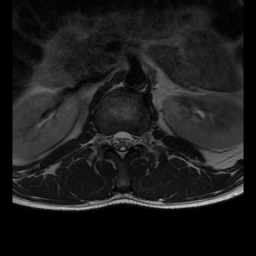CCS_normal: (117, 124, 125, 164)
LFS_normal: (133, 124, 142, 151)
LLS_normal: (125, 123, 133, 155)
RFS_normal: (101, 127, 109, 152)
RLS_normal: (109, 125, 117, 153)
